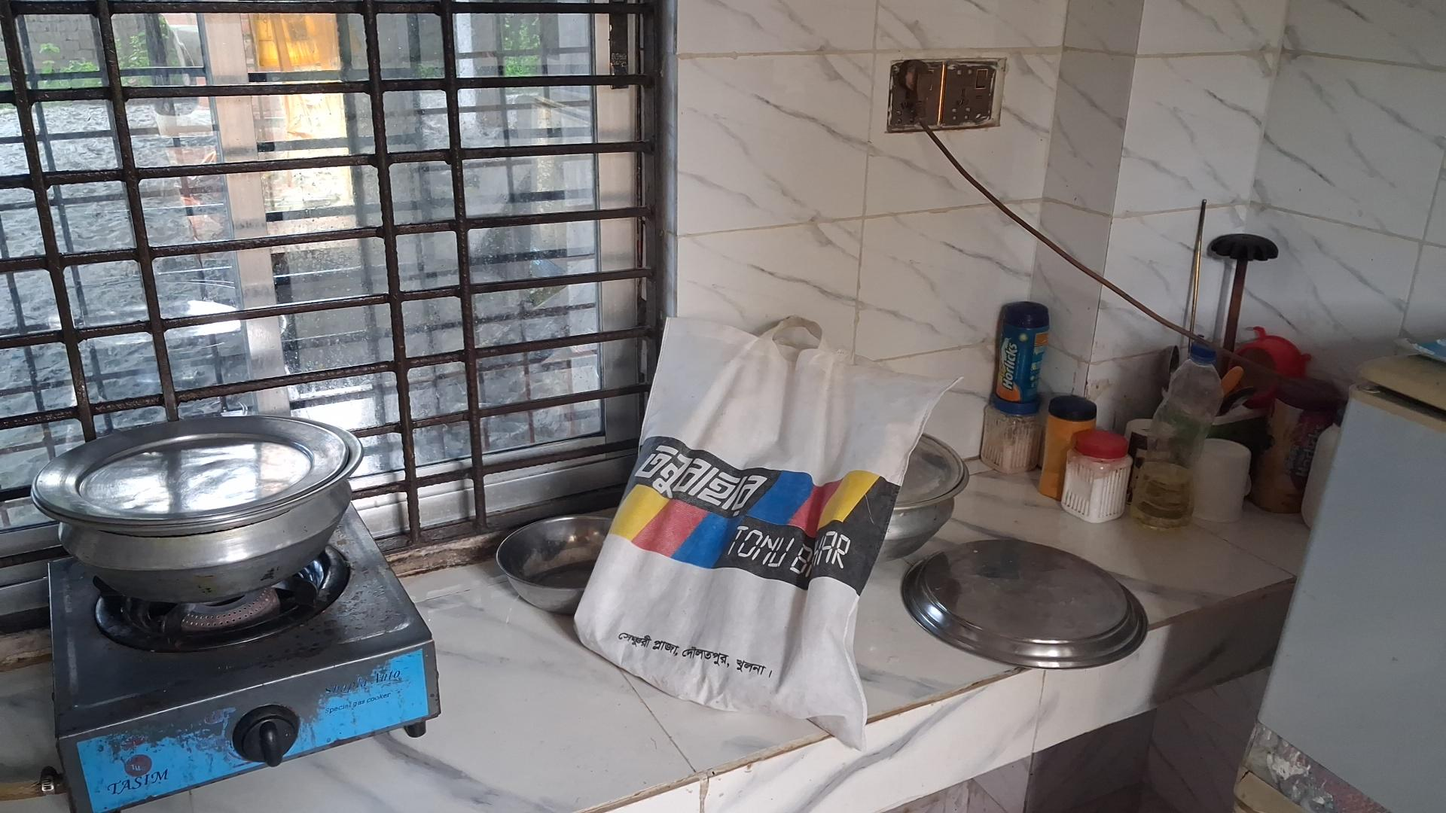Bag: (570, 313, 954, 748)
Bottle: (1131, 343, 1222, 529)
Bowl: (495, 512, 615, 613)
Cup: (1191, 437, 1252, 523)
Jar: (1257, 372, 1316, 515), (1060, 431, 1129, 537), (986, 308, 1059, 404), (1043, 399, 1101, 502), (977, 391, 1036, 480)
Plate: (900, 544, 1149, 669)
Pot: (37, 416, 361, 598)
